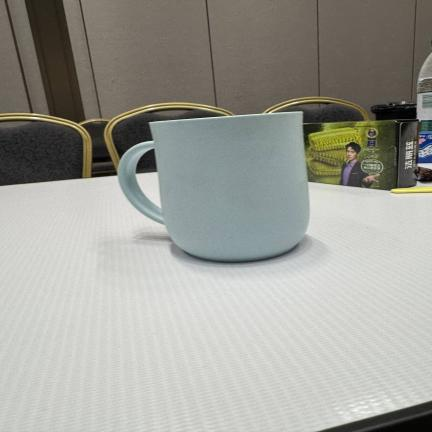cup: (118, 112, 309, 262)
